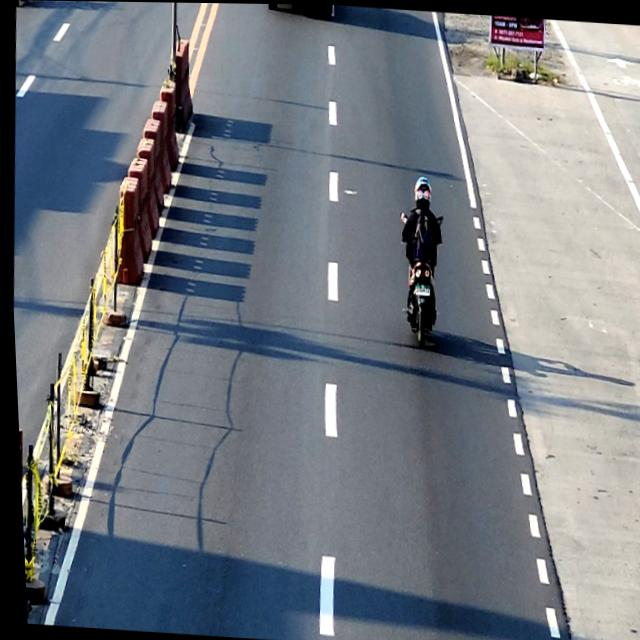License-Plate: (411, 281, 428, 295)
Motorcycle: (391, 209, 445, 349)
